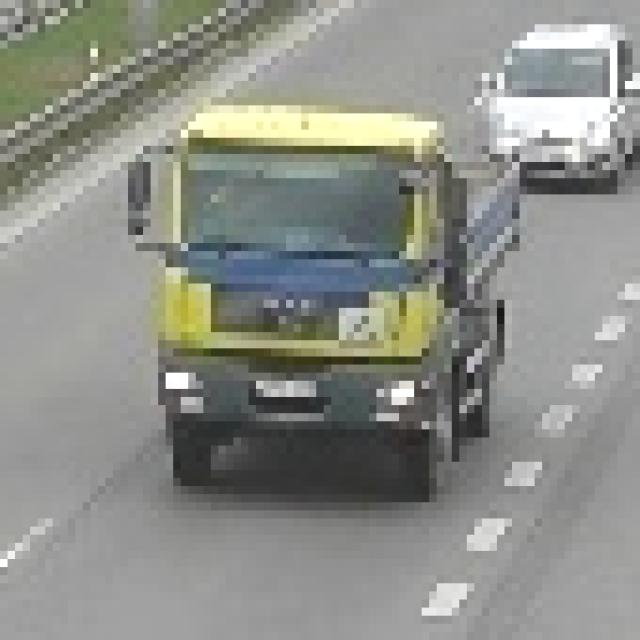truck: (114, 90, 520, 487)
